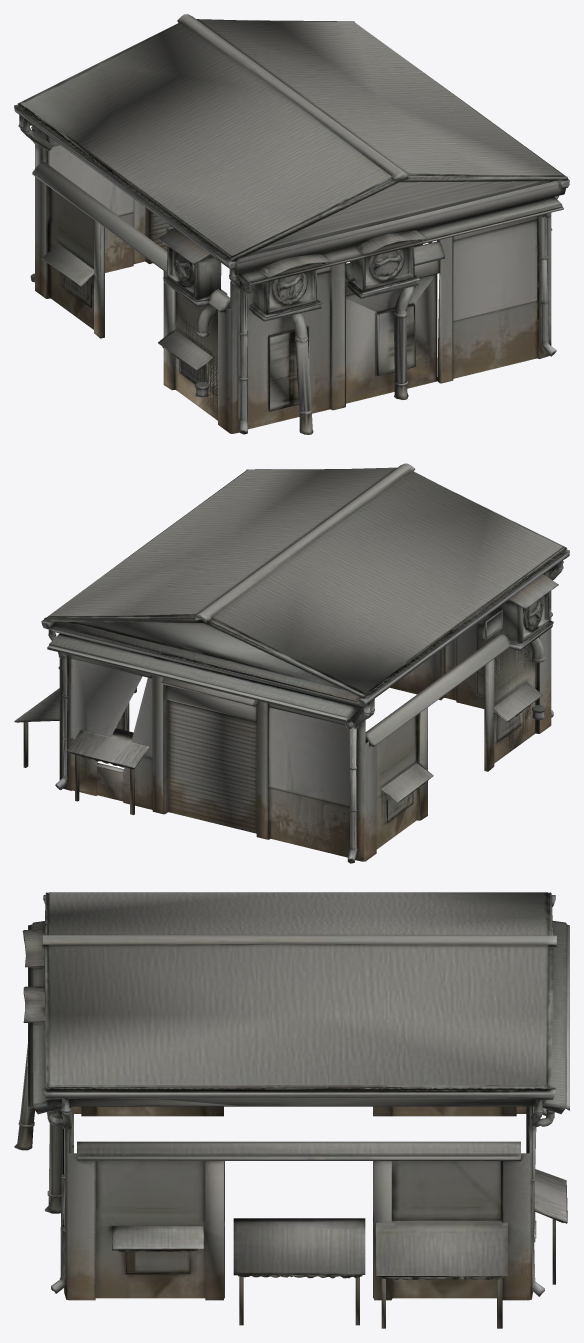
File: war_factory.glb
The picture shows the model from 3 angles, top to bottom: view 1: azimuth 30°, elevation 25°; view 2: azimuth 150°, elevation 25°; view 3: azimuth 270°, elevation 25°; orthographic projection. The views are drawn at different scales.
Visible parts, largest first — view 1: Body; view 2: Body; view 3: Body.
Boxes of the visible parts, bbox=[...] form: Body: bbox=[14, 14, 569, 434]; Body: bbox=[14, 463, 569, 863]; Body: bbox=[14, 892, 569, 1328].
Bounding box in the file's own units: 8.54 × 4.65 × 8.64.
Materials: 1 (1 with a texture image).
